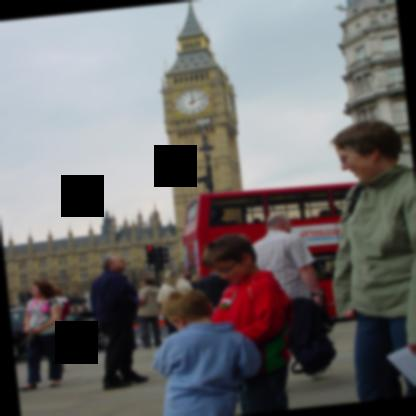backpack: (285, 299, 338, 375)
